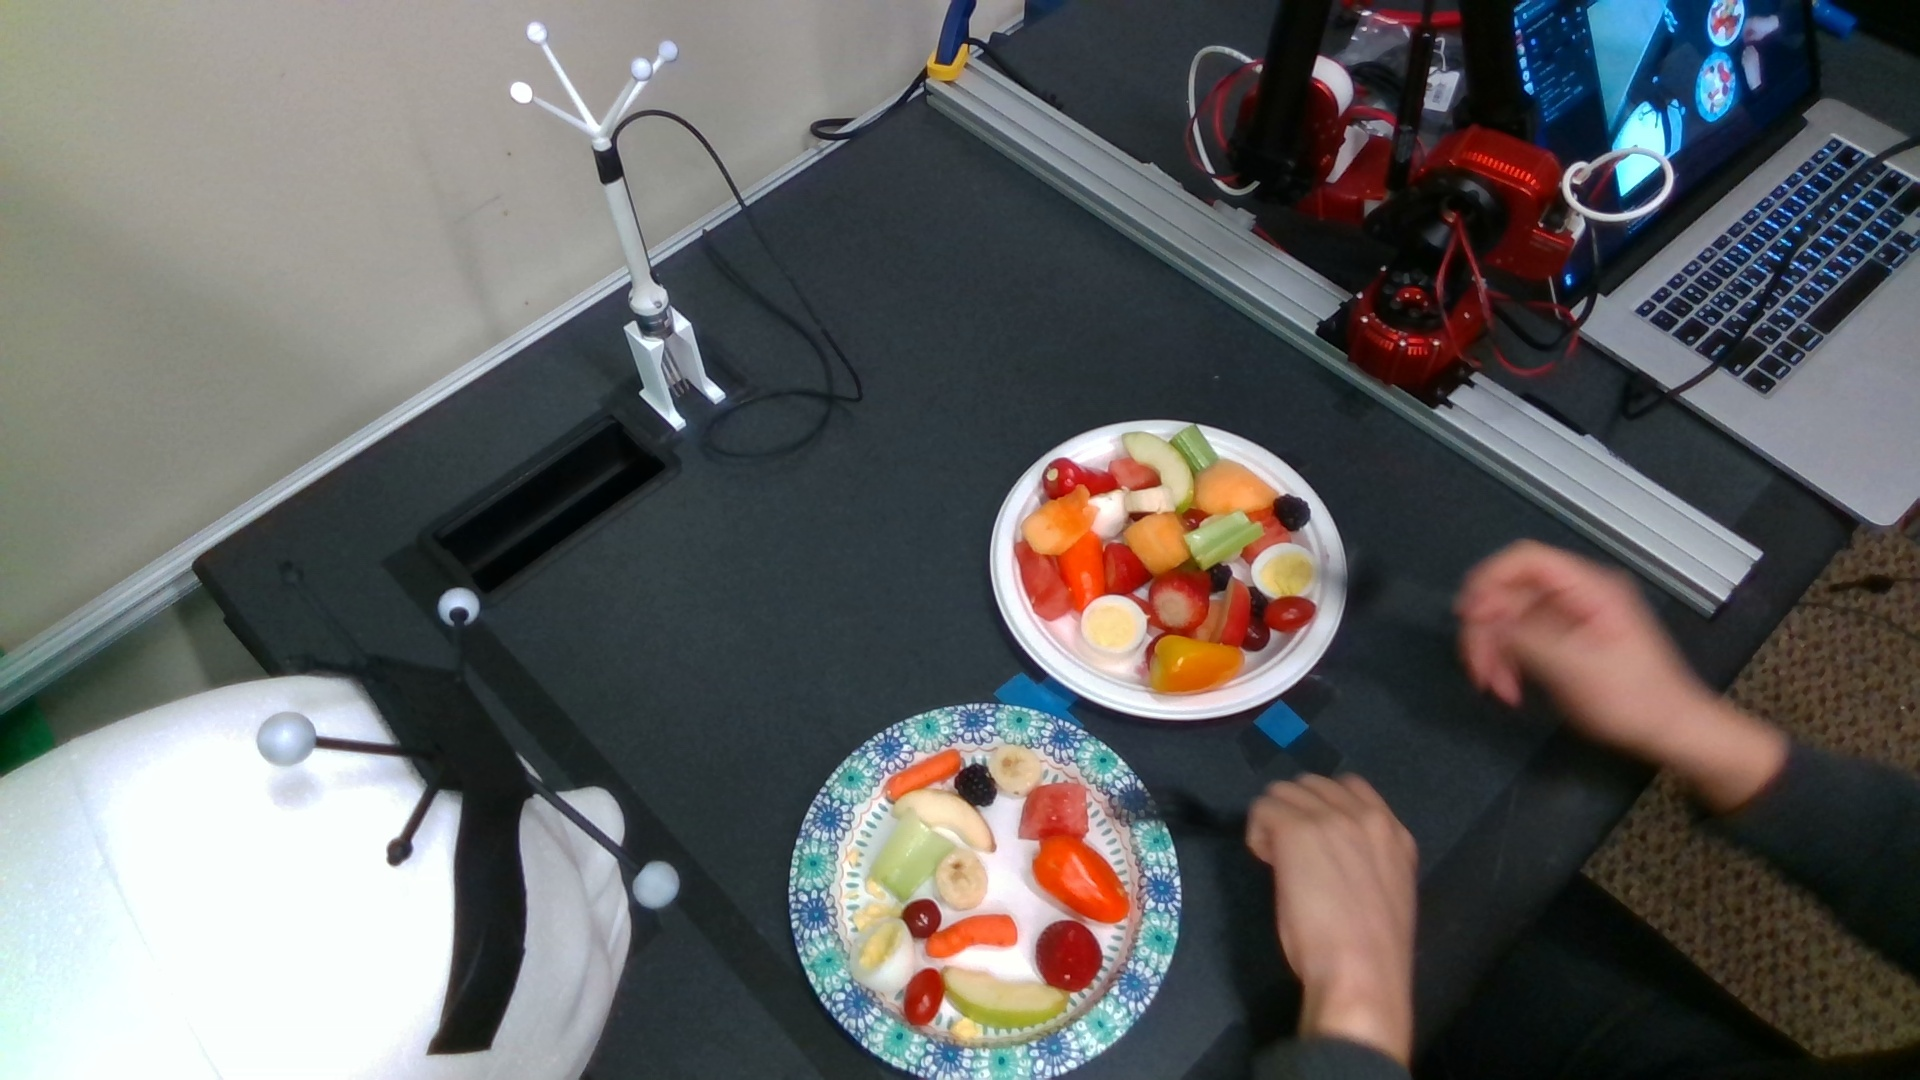apple: (943, 965, 1068, 1029), (891, 790, 996, 853), (1124, 433, 1193, 512), (1211, 576, 1251, 647)
banana: (936, 851, 988, 910), (989, 746, 1040, 795), (1124, 487, 1176, 512)
bell_pepper: (1033, 837, 1131, 924), (1150, 637, 1244, 694), (1058, 530, 1104, 613), (1042, 458, 1116, 498)
blackberry: (955, 764, 997, 807), (1275, 495, 1309, 531)
cantalope: (1021, 483, 1098, 555), (1193, 459, 1278, 514), (1124, 512, 1187, 572)
carrot: (885, 750, 963, 802), (927, 914, 1018, 957)
celery: (872, 811, 957, 901), (1185, 510, 1265, 570), (1171, 425, 1218, 473)
cherry_tomato: (905, 968, 945, 1026), (1263, 595, 1317, 632)
egg: (851, 918, 915, 993), (1081, 596, 1146, 655), (1251, 543, 1317, 599)
grape_purple: (903, 899, 942, 939)
melon: (1014, 542, 1069, 620), (1019, 785, 1088, 843)
strawberry: (1034, 922, 1102, 992), (1149, 571, 1211, 633), (1106, 543, 1150, 593)
